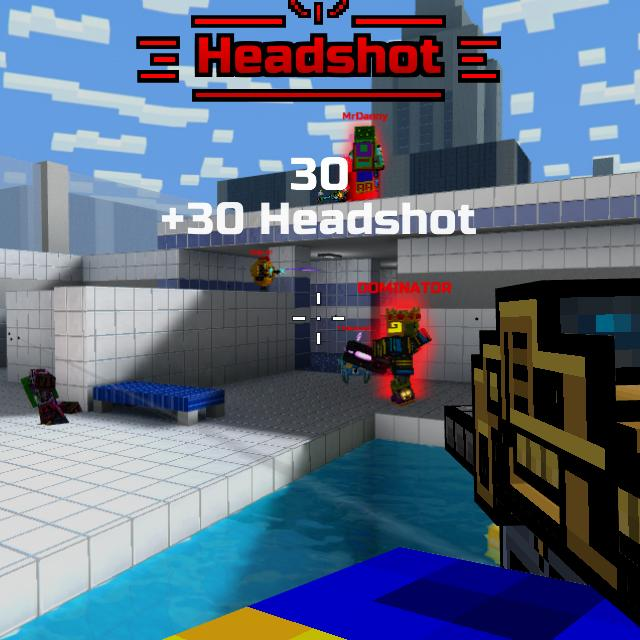Enemy: (375, 310, 432, 406), (348, 126, 383, 197)
